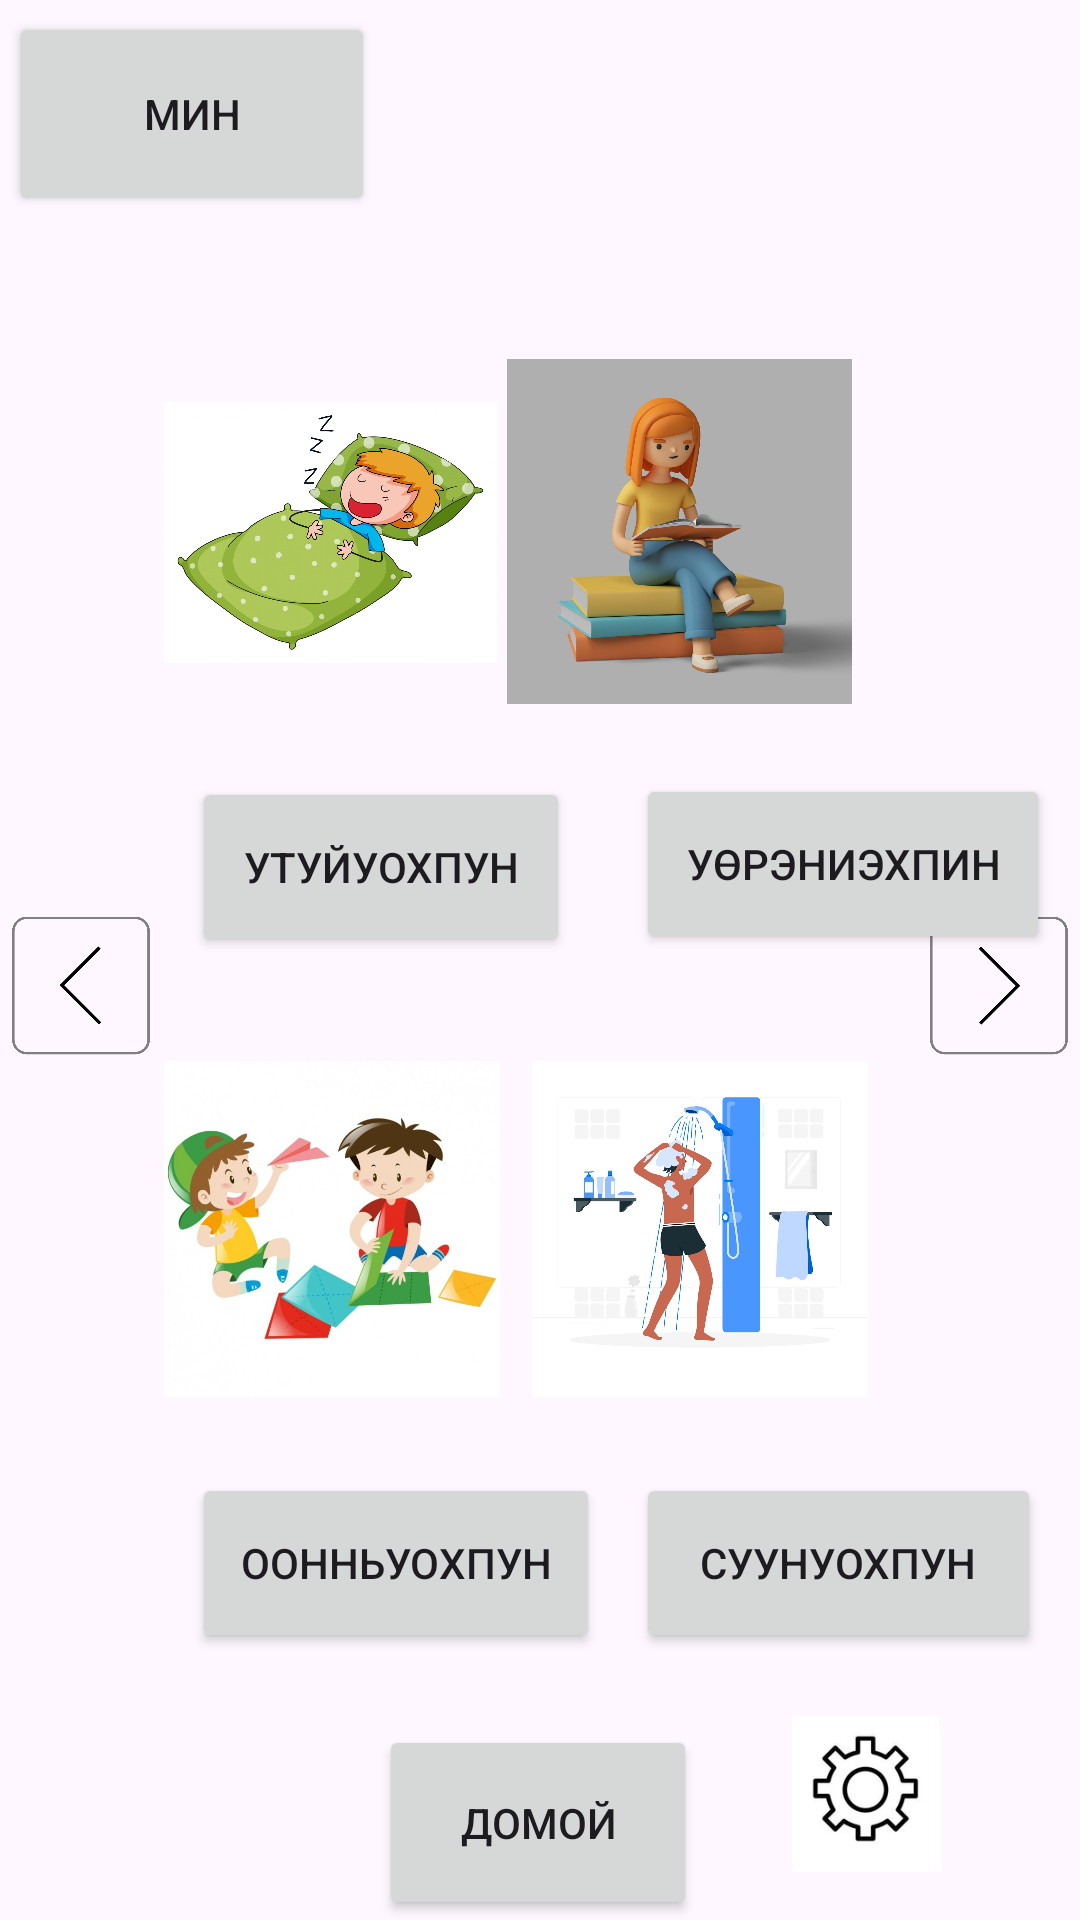

Locate icon controls on the screen. Image size 1080 × 1920, boxes as bbox=(x1, y1, x2, y2).
left: bbox=(12, 917, 150, 1055)
playing: bbox=(168, 1118, 497, 1340)
right: bbox=(930, 900, 1068, 1055)
settings: bbox=(812, 1736, 919, 1842)
shower: bbox=(573, 1097, 832, 1341)
sleep: bbox=(177, 415, 484, 650)
study: bbox=(507, 359, 852, 704)
